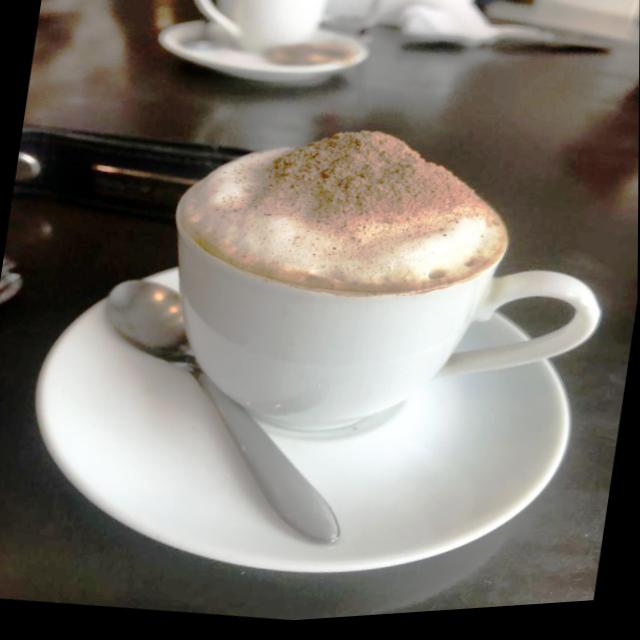drink: (176, 132, 507, 431)
